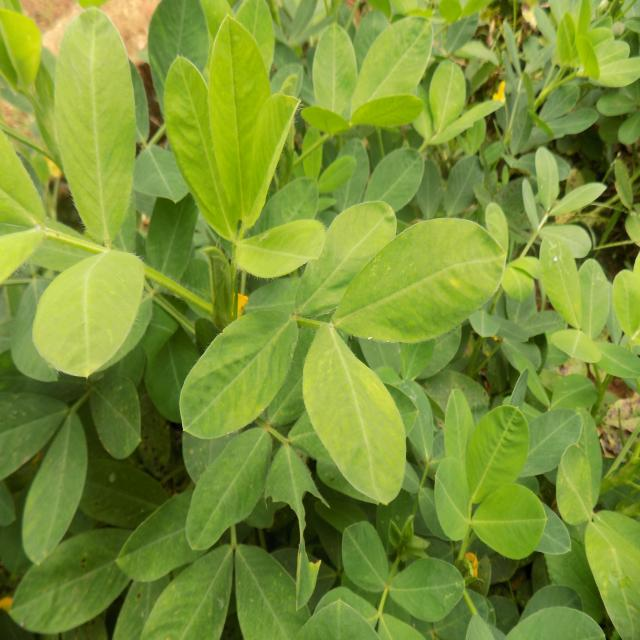Ground nut_healthy: (328, 214, 509, 351), (307, 323, 406, 524), (52, 16, 142, 228), (25, 250, 147, 376), (179, 307, 293, 437), (166, 56, 237, 245), (461, 393, 524, 514)
